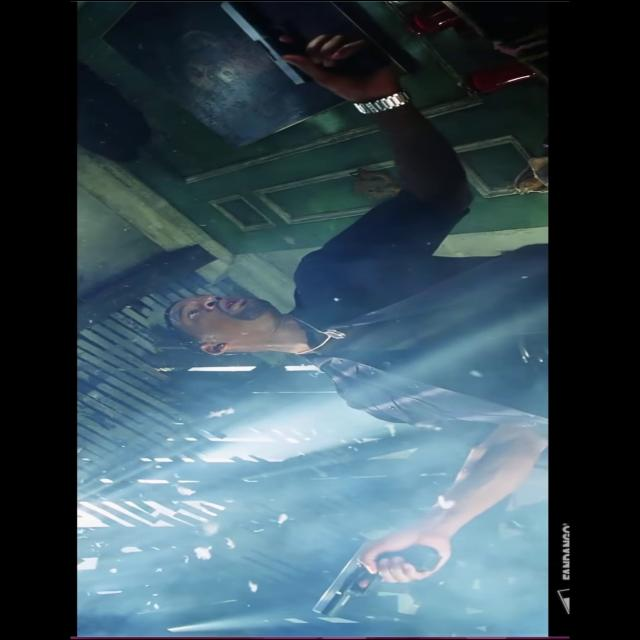weapons: (296, 524, 456, 624), (207, 0, 368, 89)
